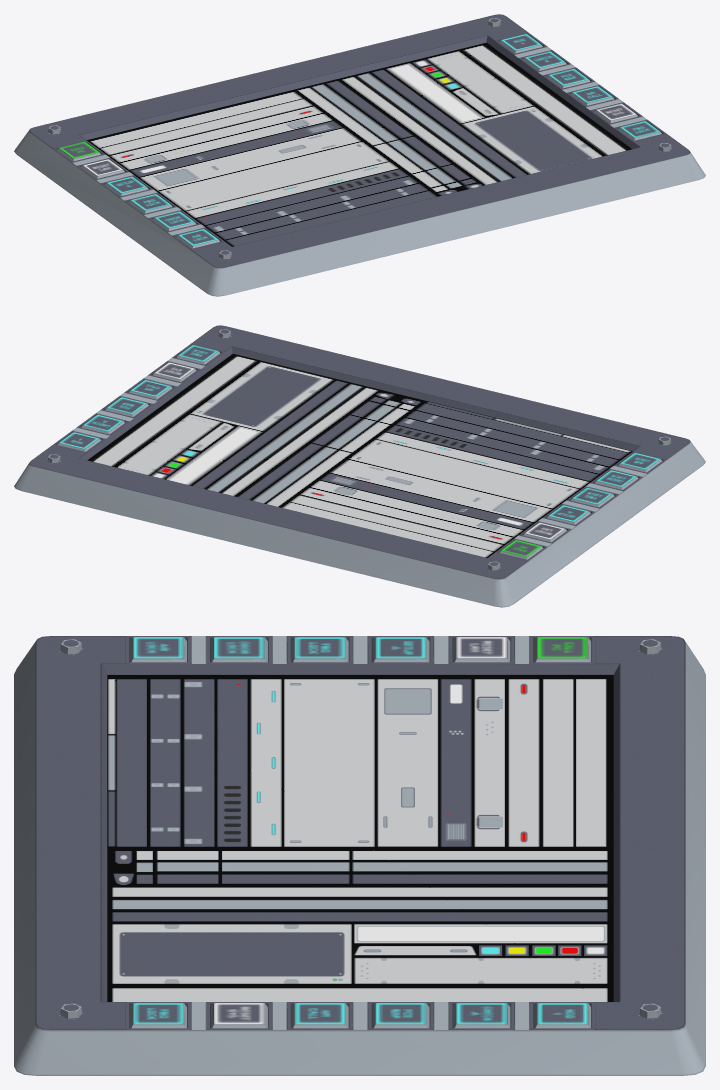
The model's file is Panel_Screen_01.FBX.
The picture shows the model from 3 angles, top to bottom: view 1: azimuth 30°, elevation 25°; view 2: azimuth 150°, elevation 25°; view 3: azimuth 270°, elevation 25°; orthographic projection. The views are drawn at different scales.
Visible parts, largest first — view 1: Screen, Panel_Screen_01, Button_01, Button_03, Button_05, Button_07, Button_10, Button_11, Button_02, Button_04, Button_08, Button_09 (+2 smaller); view 2: Screen, Panel_Screen_01, Button_02, Button_04, Button_07, Button_09, Button_08, Button_10, Button_01, Button_03, Button_05, Button_06 (+2 smaller); view 3: Screen, Panel_Screen_01, Button_09, Button_02, Button_03, Button_04, Button_07, Button_08, Button_10, Button_11, Button_01, Button_05 (+2 smaller).
Part boxes in pixels (<box>): Screen: <box>87,42,631,246</box>; Panel_Screen_01: <box>14,14,705,296</box>; Button_01: <box>57,141,100,161</box>; Button_03: <box>105,176,148,196</box>; Button_05: <box>152,211,195,230</box>; Button_07: <box>499,34,542,53</box>; Button_10: <box>570,86,613,105</box>; Button_11: <box>594,103,637,123</box>; Button_02: <box>81,159,124,178</box>; Button_04: <box>129,194,172,213</box>; Button_08: <box>523,51,566,70</box>; Button_09: <box>547,68,590,88</box>; Screen: <box>88,354,632,557</box>; Panel_Screen_01: <box>14,325,705,607</box>; Button_02: <box>523,522,566,542</box>; Button_04: <box>571,487,614,507</box>; Button_07: <box>57,432,101,451</box>; Button_09: <box>105,397,148,416</box>; Button_08: <box>81,414,124,434</box>; Button_10: <box>129,379,172,399</box>; Button_01: <box>499,540,542,559</box>; Button_03: <box>547,505,590,524</box>; Button_05: <box>595,470,638,489</box>; Button_06: <box>619,453,661,472</box>; Screen: <box>107,675,613,1001</box>; Panel_Screen_01: <box>14,636,705,1075</box>; Button_09: <box>372,1003,429,1028</box>; Button_02: <box>453,637,510,662</box>; Button_03: <box>372,637,429,662</box>; Button_04: <box>291,637,348,662</box>; Button_07: <box>534,1003,591,1028</box>; Button_08: <box>453,1003,510,1028</box>; Button_10: <box>291,1003,348,1028</box>; Button_11: <box>210,1003,267,1028</box>; Button_01: <box>534,637,591,662</box>; Button_05: <box>210,637,267,662</box>.
Bounding box in the file's own units: 2.59 × 0.1314 × 1.84.
